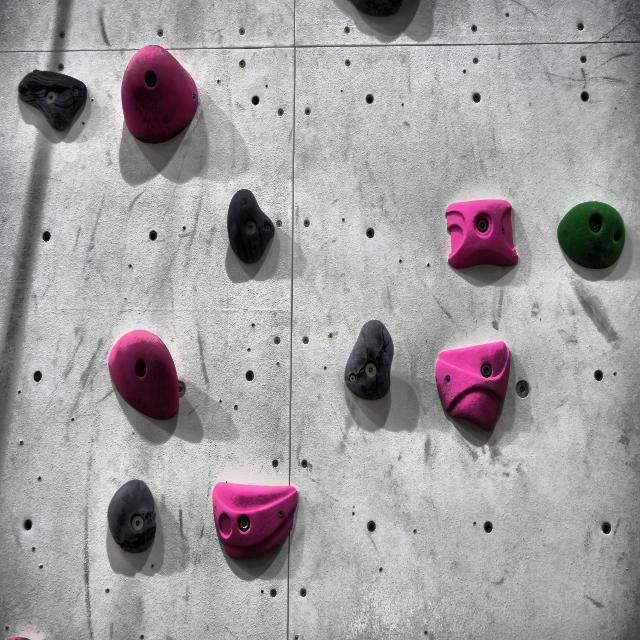Hold: (207, 470, 304, 568), (106, 320, 188, 428), (432, 339, 514, 440), (121, 46, 204, 143), (438, 194, 529, 281), (547, 188, 627, 274), (15, 56, 92, 141), (333, 316, 402, 402), (101, 472, 164, 556), (224, 186, 274, 270), (337, 0, 423, 25)
